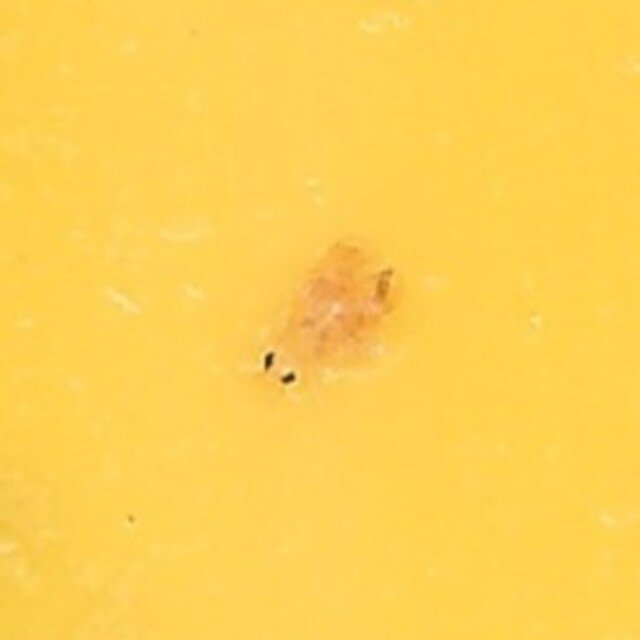Hemiptera: (239, 236, 401, 404)
